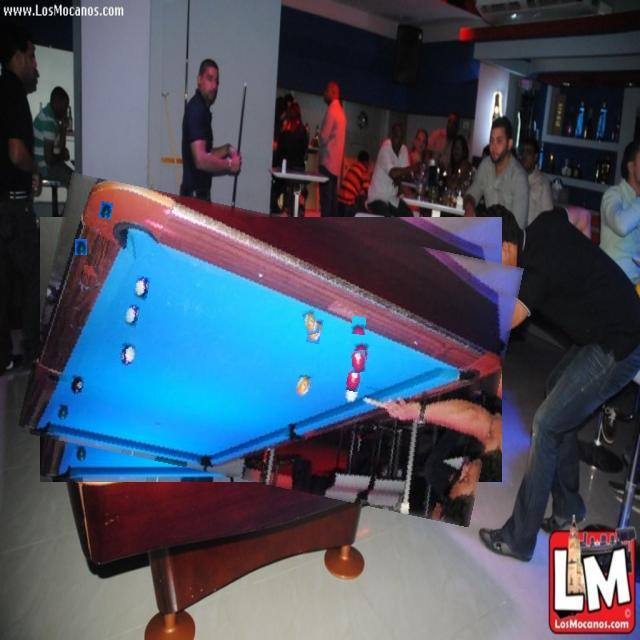Ball: (124, 303, 141, 329), (303, 308, 318, 334), (352, 351, 367, 373), (82, 266, 98, 285), (352, 316, 366, 335), (75, 239, 87, 255)
Billiard table: (29, 195, 513, 504)
